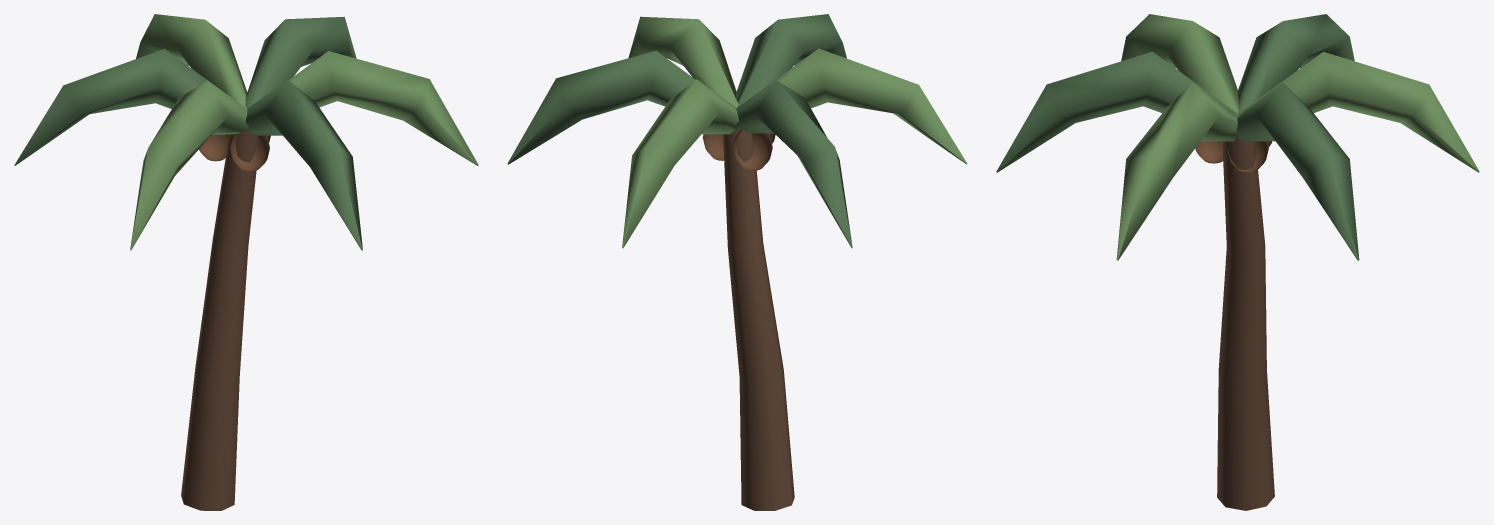
The model's file is island-palm-lod1.glb.
3 renders of one model, left to right at view 1: azimuth 30°, elevation 25°; view 2: azimuth 150°, elevation 25°; view 3: azimuth 270°, elevation 25°, orthographic. The views are drawn at different scales.
Parts seen in each view (by area): view 1: shell; view 2: shell; view 3: shell.
Boxes of the visible parts, x1,y1,x2,y2 form: shell: (14, 14, 478, 510); shell: (507, 14, 967, 510); shell: (996, 14, 1479, 510).
Size of the model in its own units: 2.61 by 3.19 by 3.01.
